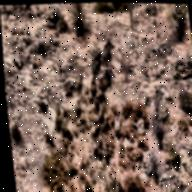boar: (101, 38, 116, 66), (86, 54, 102, 73), (102, 66, 116, 87)
